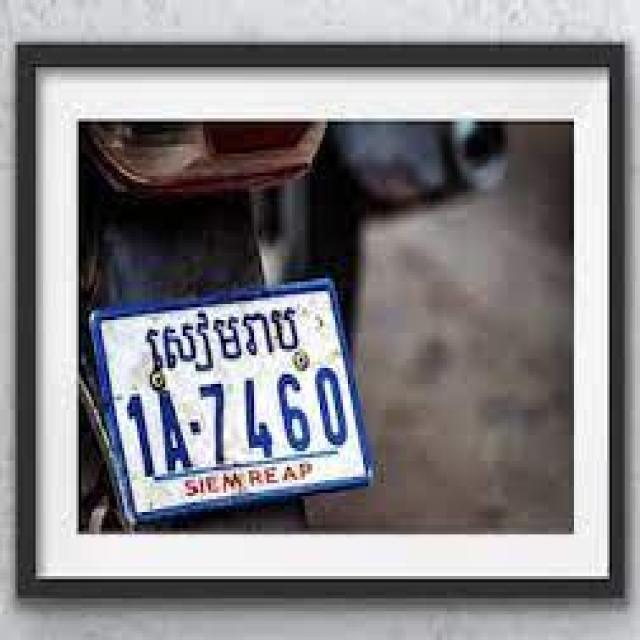Siem_Reap: (142, 304, 302, 369)
